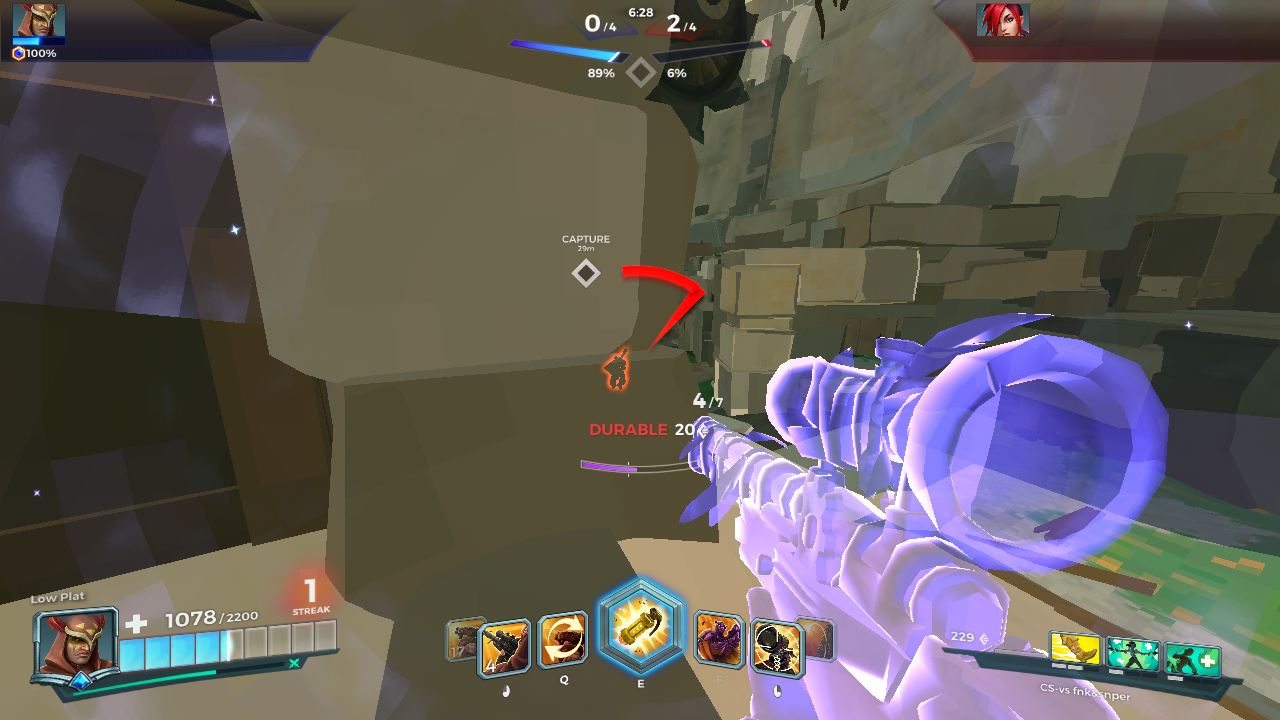model: (599, 345, 631, 395)
